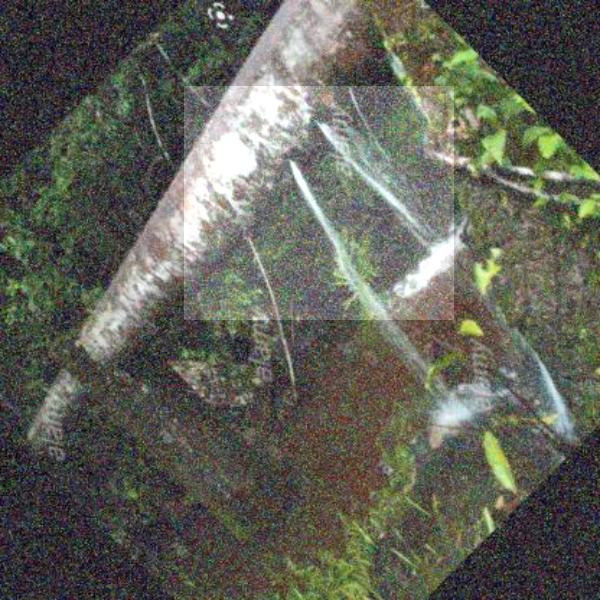water: (184, 86, 454, 320)
